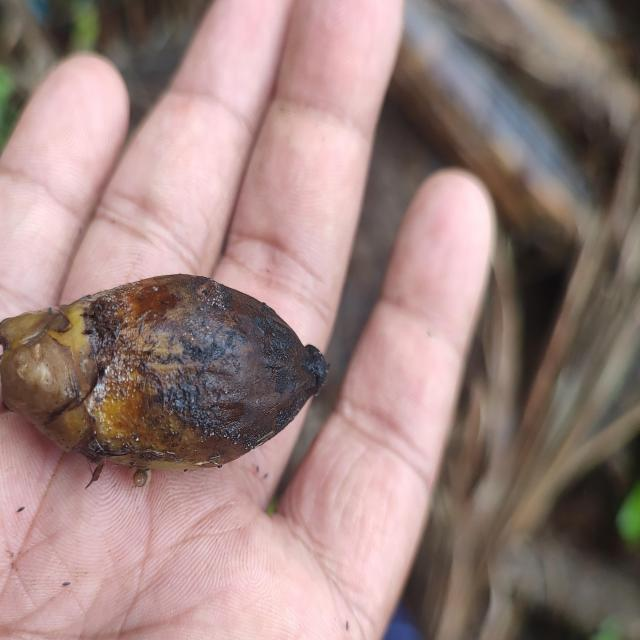damaged: (0, 273, 329, 477)
